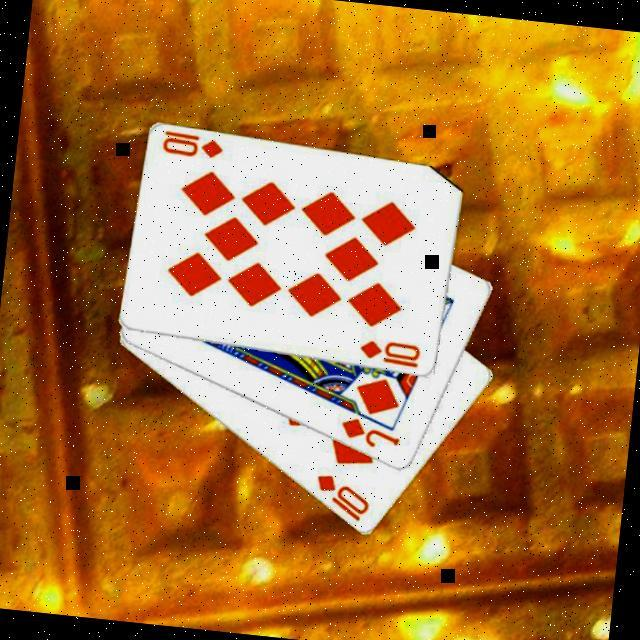10D: (311, 470, 377, 525), (357, 334, 426, 371), (160, 127, 229, 162)
JD: (337, 412, 406, 452)
